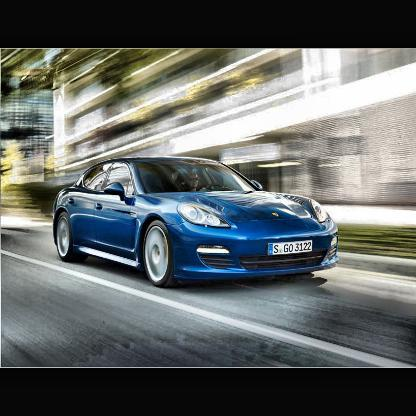Porsche Panamera Sedan 2012: (53, 157, 339, 289)
